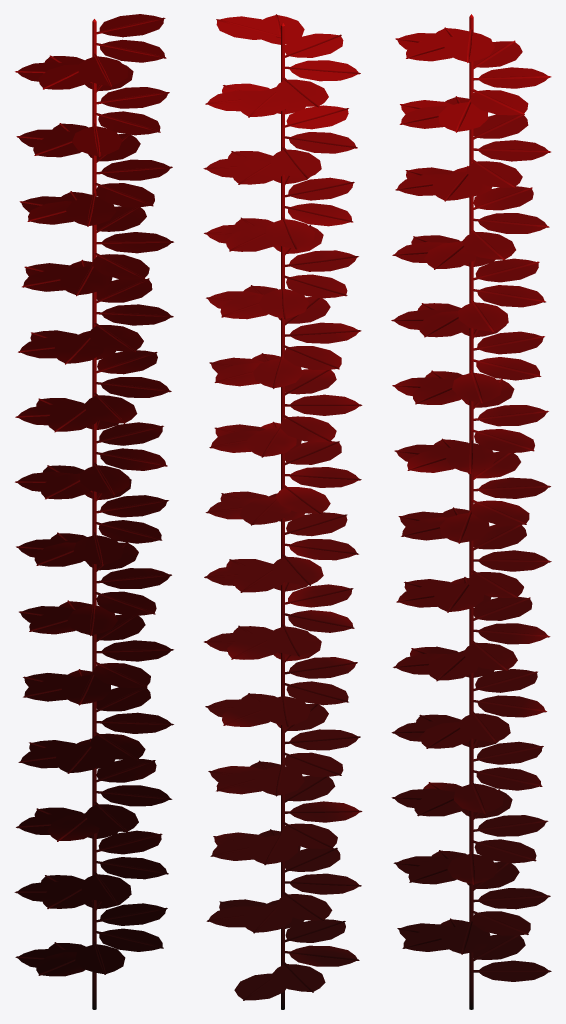
File: SM_PlantMooving_01.FBX
3 views of the same model, side by side, from view 1: azimuth 30°, elevation 25°; view 2: azimuth 150°, elevation 25°; view 3: azimuth 270°, elevation 25° (orthographic).
Parts seen in each view (by area): view 1: Cylinder129; view 2: Cylinder129; view 3: Cylinder129.
Boxes of the visible parts, <box> form: Cylinder129: <box>14,14,173,1009</box>; Cylinder129: <box>203,14,362,1009</box>; Cylinder129: <box>391,14,551,1009</box>.
Size of the model in its own units: 15.27 by 104 by 15.28.
